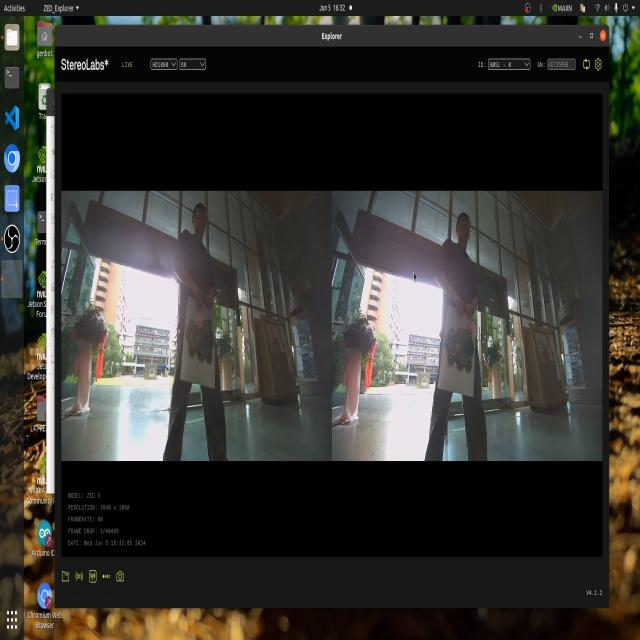green: (440, 316, 479, 379), (184, 306, 217, 362)
